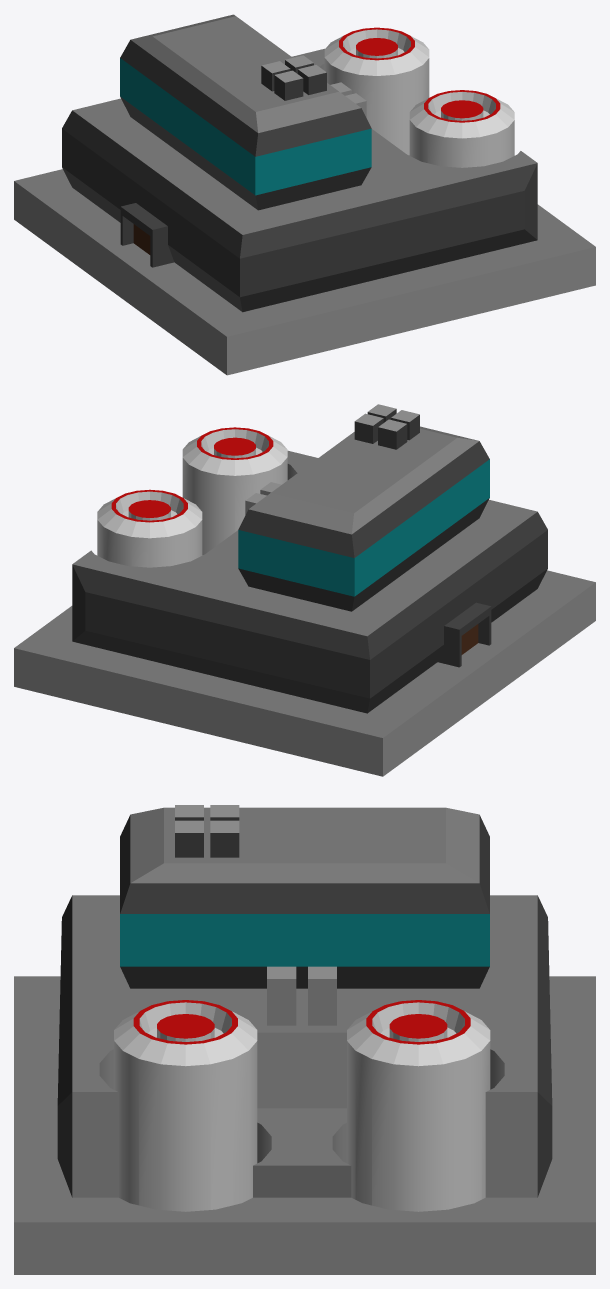
The model's file is building 01 simple mat.FBX.
3 renders of one model, top to bottom at view 1: azimuth 30°, elevation 25°; view 2: azimuth 150°, elevation 25°; view 3: azimuth 270°, elevation 25°, orthographic. The views are drawn at different scales.
Visible parts, largest first — view 1: Box02; view 2: Box02; view 3: Box02.
Part boxes in pixels (bbox=[...]): Box02: bbox=[14, 14, 595, 375]; Box02: bbox=[14, 404, 595, 776]; Box02: bbox=[14, 805, 595, 1274].
Size of the model in its own units: 394 by 225 by 394.
